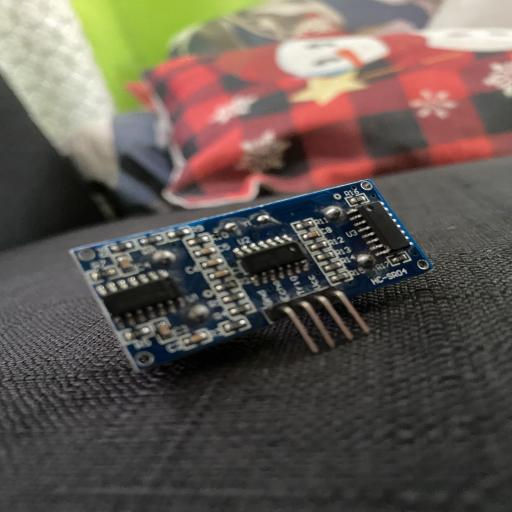Ultrasonic Sensor: (68, 176, 435, 375)
